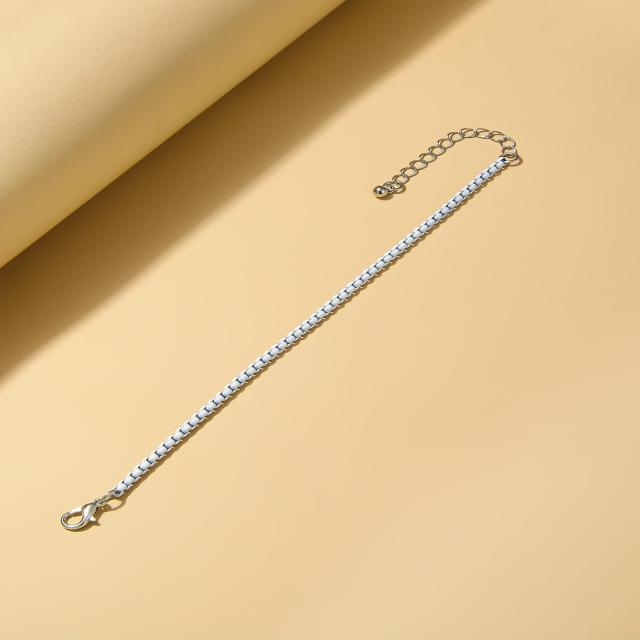bracelet: (7, 79, 595, 545)
